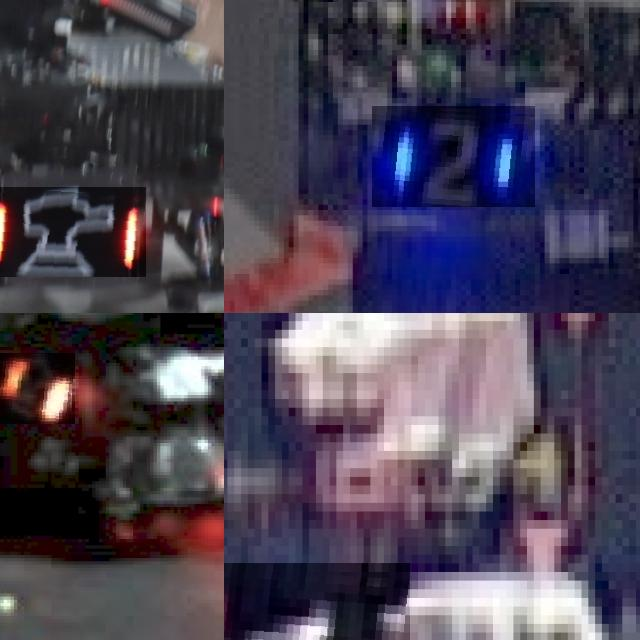B2: (372, 106, 535, 207)
R4: (224, 563, 411, 640)
Rs: (0, 186, 146, 277), (0, 353, 75, 423)
